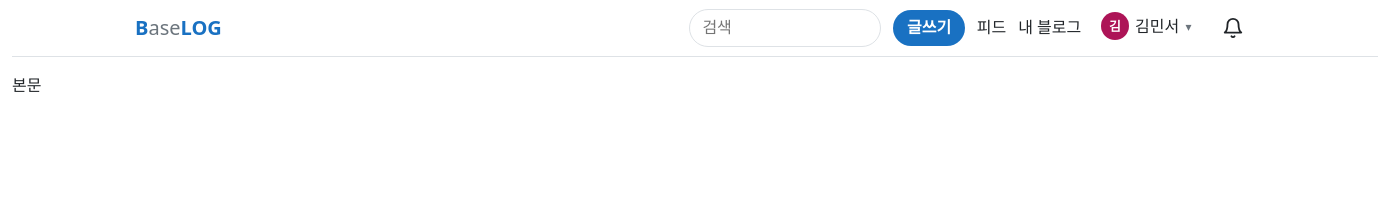
Test: 공통 머리말 (SiteHeader) › 로그아웃이 실패하면 알린다
This screenshot has width=1378, height=216.
Click the button with aria-label "계정 메뉴" at x=1146, y=26, box [1093,8,1199,44]
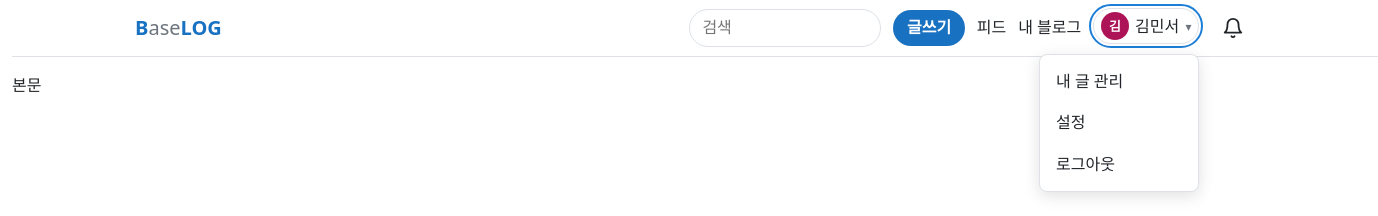
Click the button "로그아웃" at x=1119, y=165, box [1040,144,1198,186]
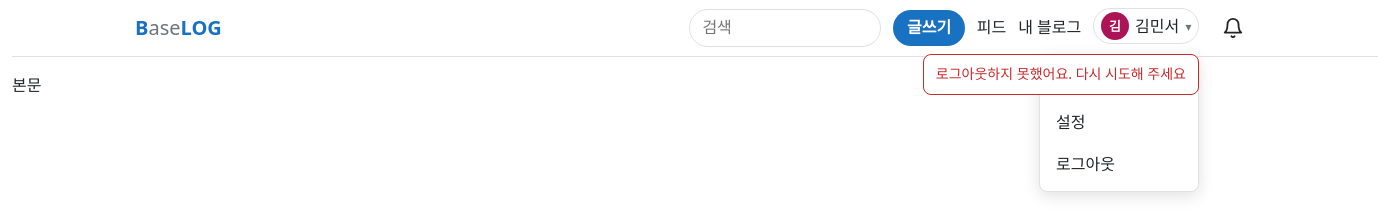
Now the message shows "로그아웃하지 못했어요", box [936,64,1186,83]
